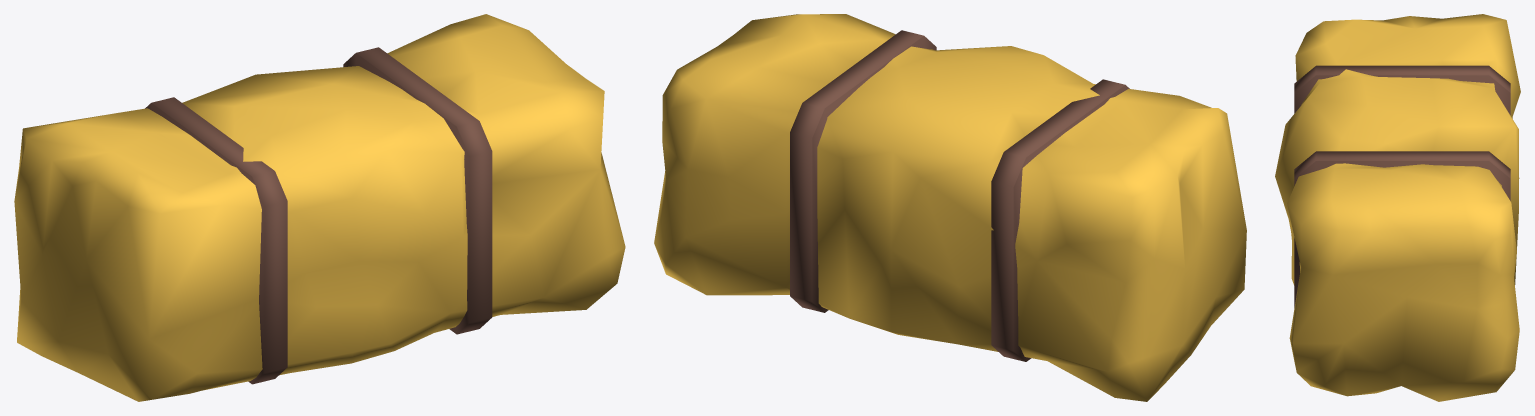
The model's file is hay_002.glb.
3 views of the same model, side by side, from view 1: azimuth 30°, elevation 25°; view 2: azimuth 150°, elevation 25°; view 3: azimuth 270°, elevation 25° (orthographic). The views are drawn at different scales.
Visible parts, largest first — view 1: hay_002; view 2: hay_002; view 3: hay_002.
Boxes of the visible parts, box(x1,y1,x2,y2) form: hay_002: box(14, 14, 625, 401); hay_002: box(654, 14, 1246, 401); hay_002: box(1275, 14, 1520, 401).
Size of the model in its own units: 2.56 by 1.13 by 1.25.
1 material, 1 textured.
